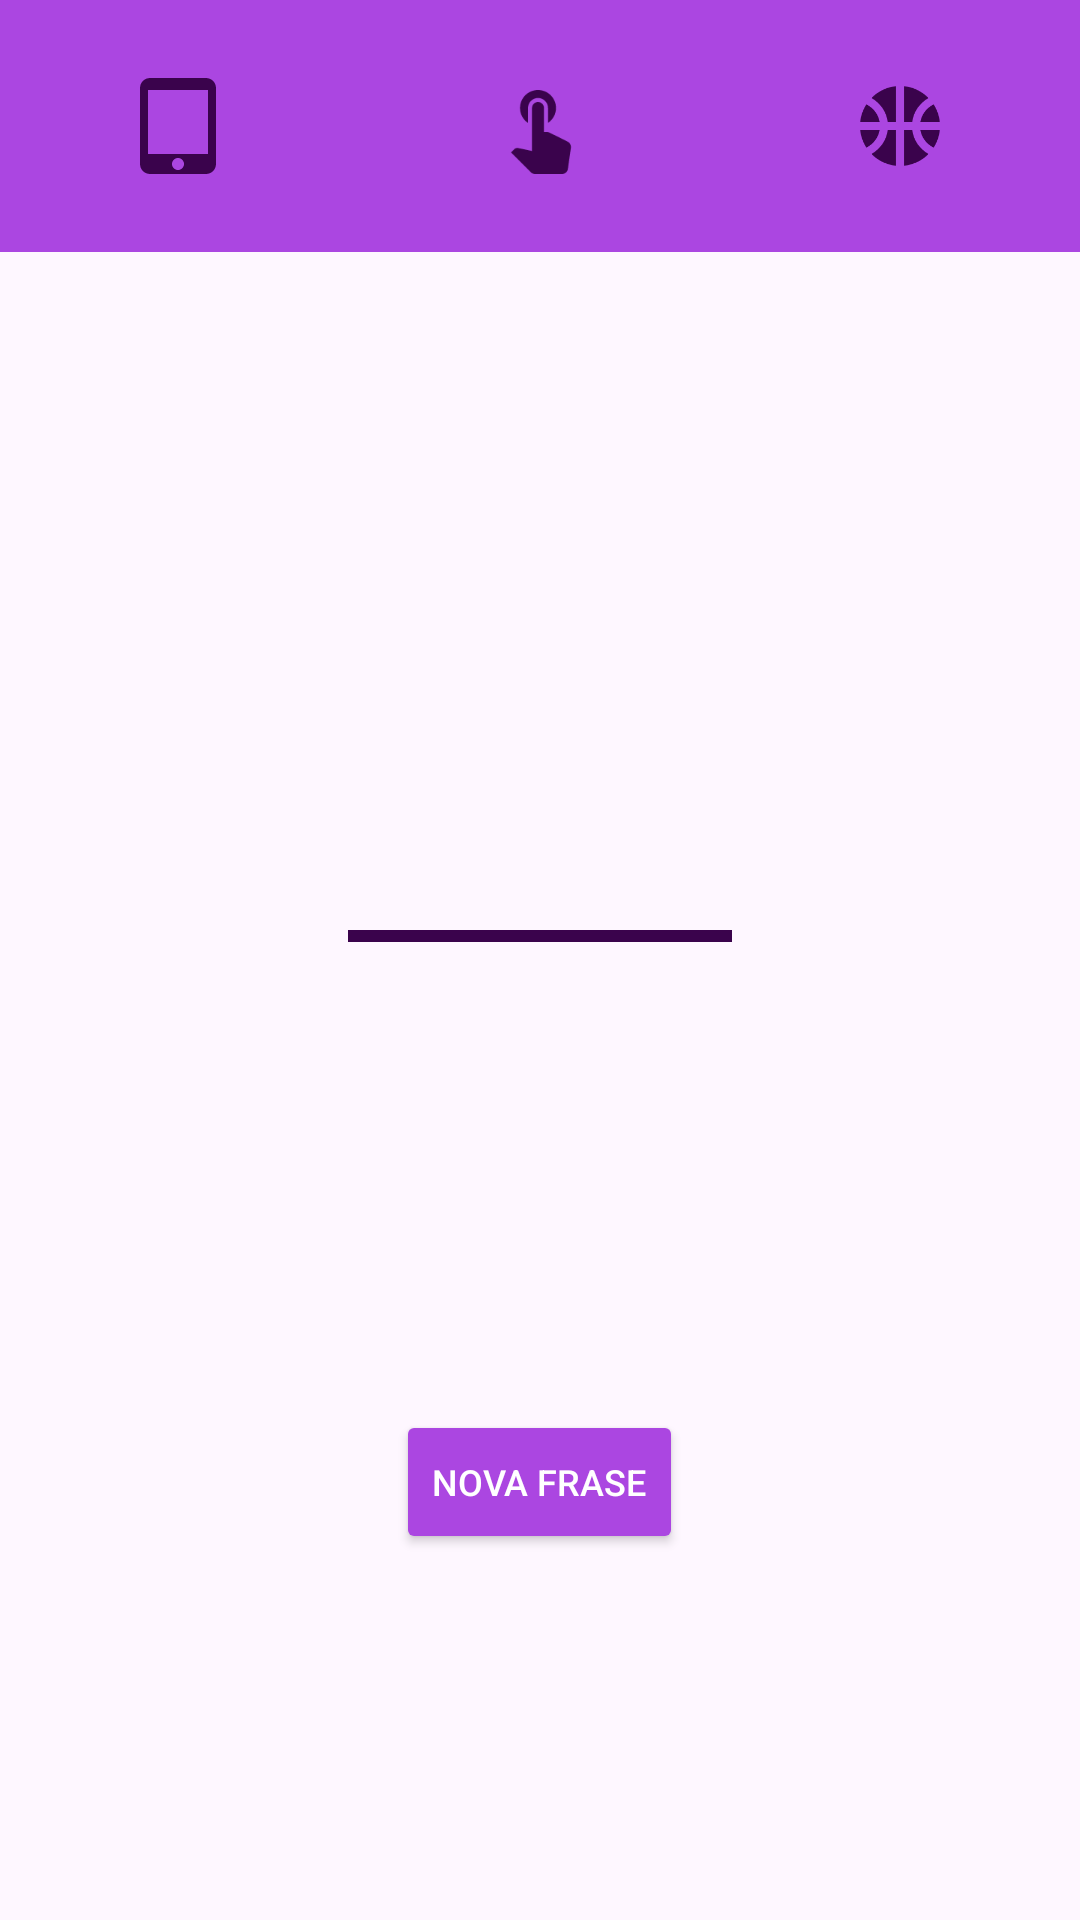

Icon bounding boxes for this 1080px×1920px phone screenshot, format (x1, y1, x2, y2):
sports basketball: (860, 86, 940, 166)
tablet mac: (140, 78, 216, 174)
touch: (511, 90, 571, 174)
